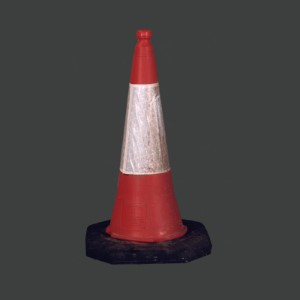traffic cone: (85, 29, 212, 265)
